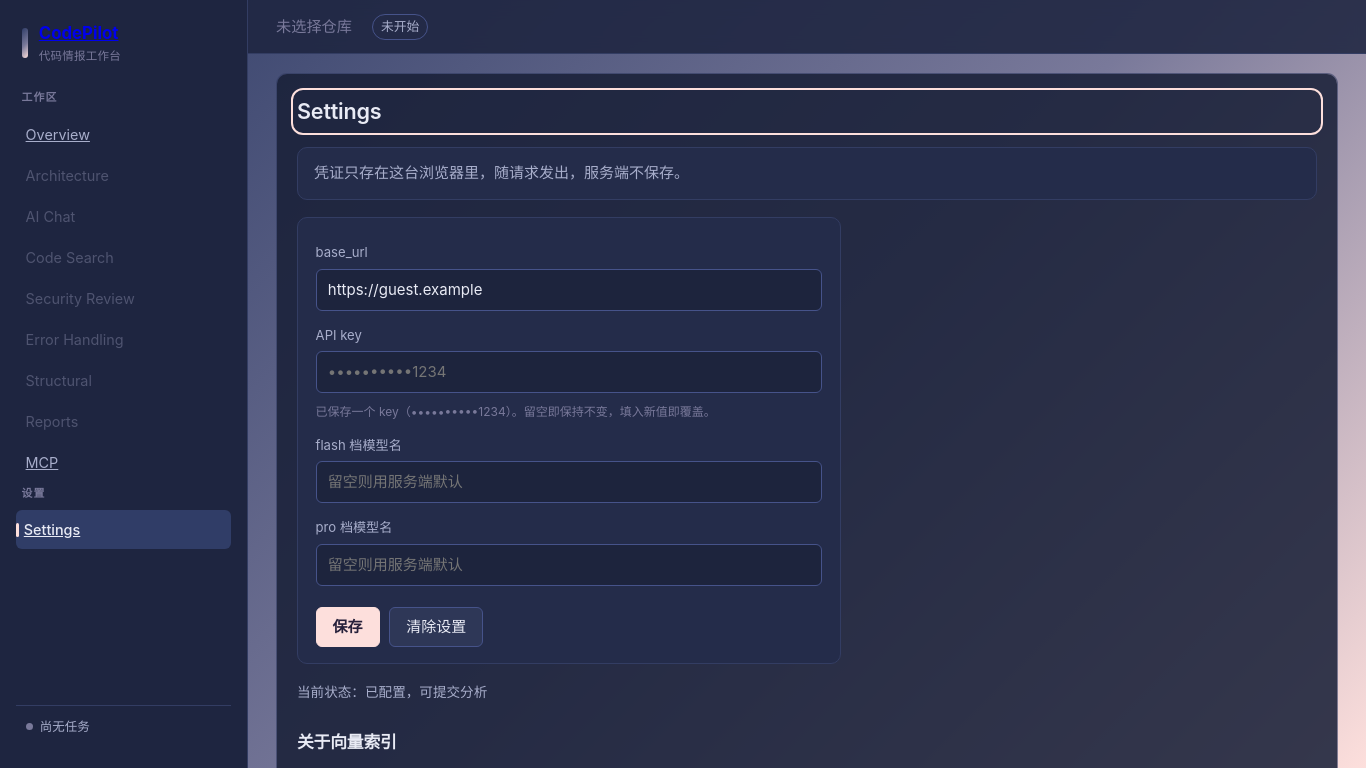
Scenario: 保存与清除 › 清除后 localStorage 移除，状态回到未配置（R-52）
Click the button "清除设置": (436, 627) top-left (389, 607), bottom-right (483, 648)
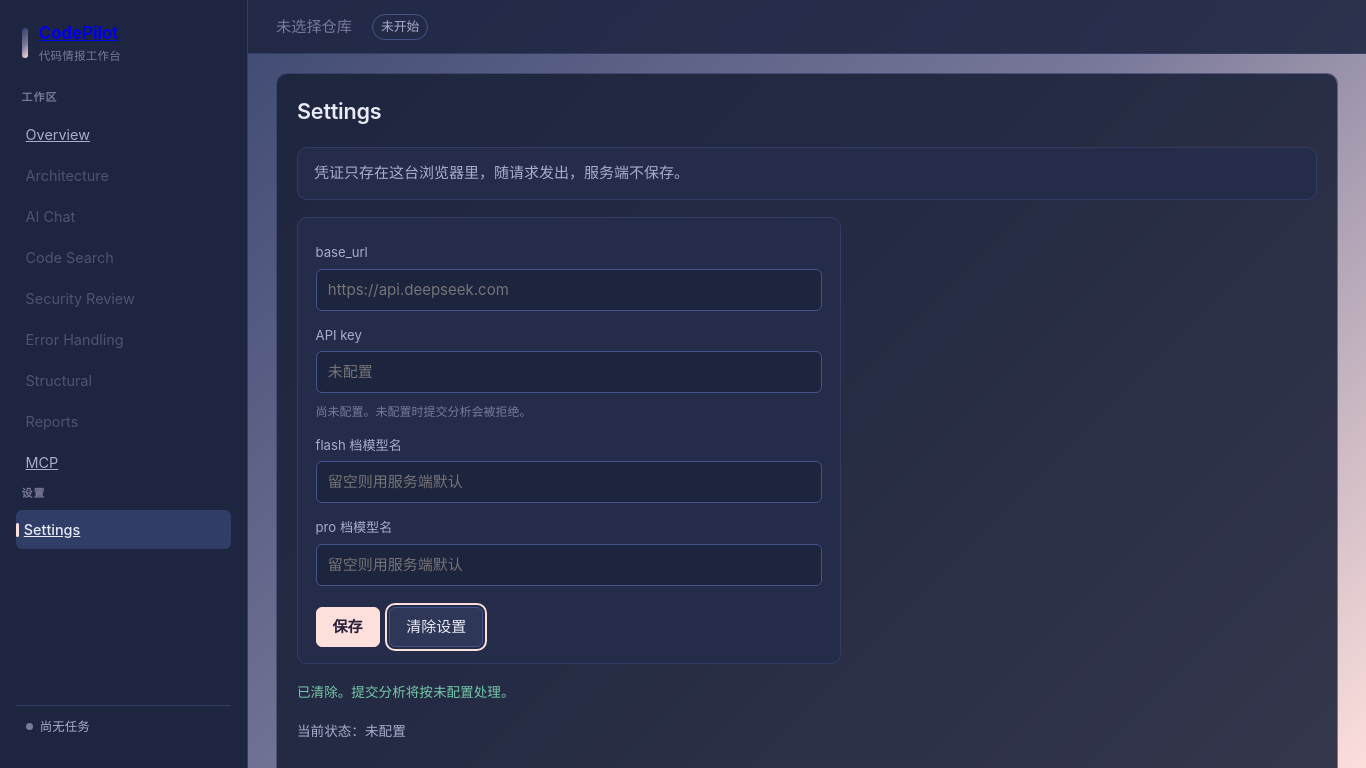
Expected: the text "已清除。提交分析将按未配置处理。" is shown, top-left (297, 684), bottom-right (514, 700)
Expected: the text "当前状态：未配置" is shown, top-left (297, 723), bottom-right (406, 739)
